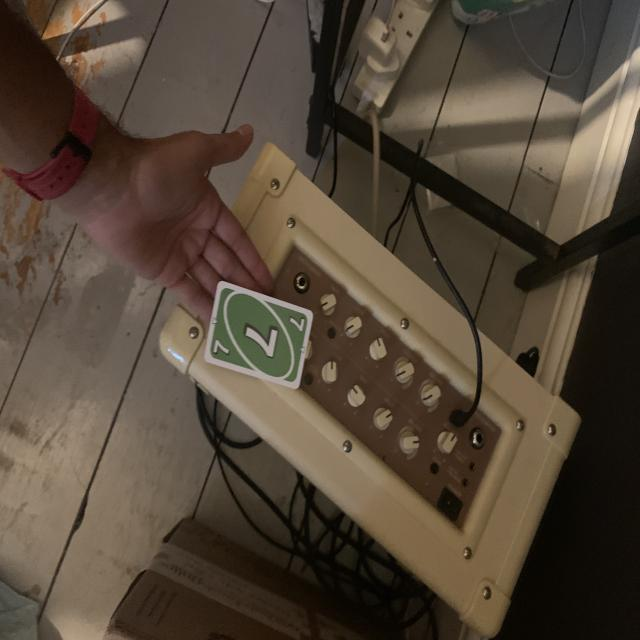lgreen-7: (212, 333, 232, 361)
